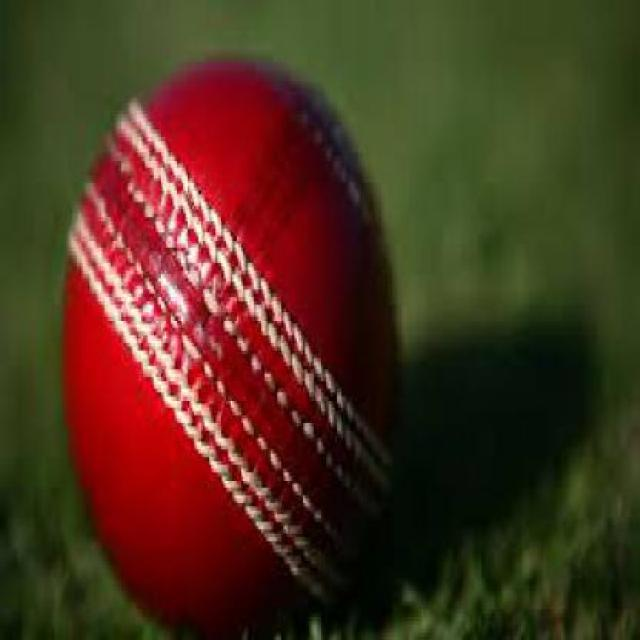ball: (47, 36, 478, 636)
